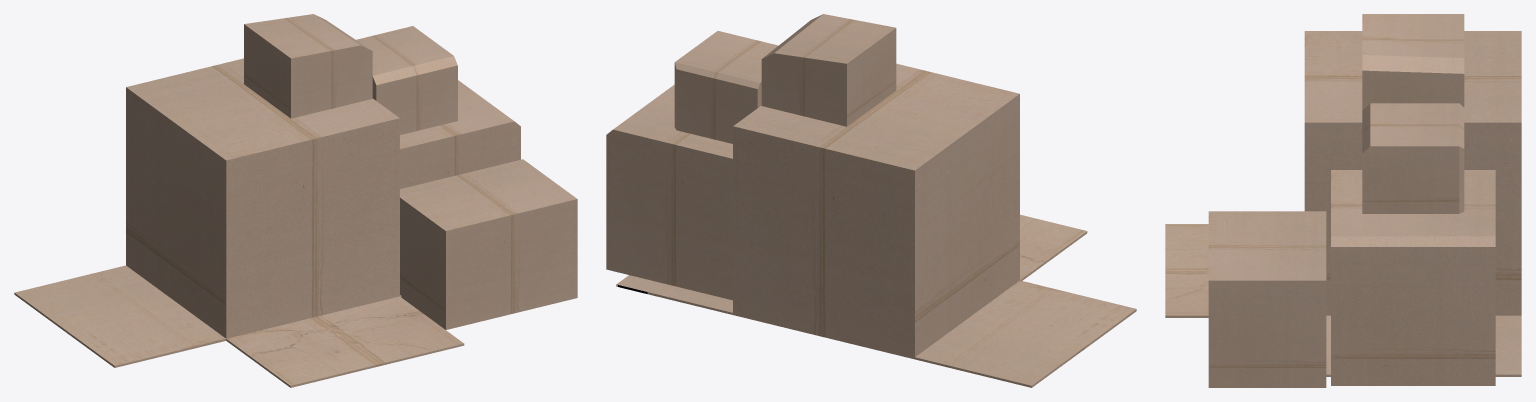
Rendered from cardboard_pile.glb.
The picture shows the model from 3 angles, left to right: view 1: azimuth 30°, elevation 25°; view 2: azimuth 150°, elevation 25°; view 3: azimuth 270°, elevation 25°; orthographic projection. The views are drawn at different scales.
Visible parts, largest first — view 1: CardboardPile; view 2: CardboardPile; view 3: CardboardPile.
Boxes of the visible parts, <box> form: CardboardPile: <box>14,14,577,387</box>; CardboardPile: <box>606,14,1136,387</box>; CardboardPile: <box>1165,14,1521,387</box>.
Bounding box in the file's own units: 1.77 × 0.9739 × 1.21.
1 material, 1 textured.
